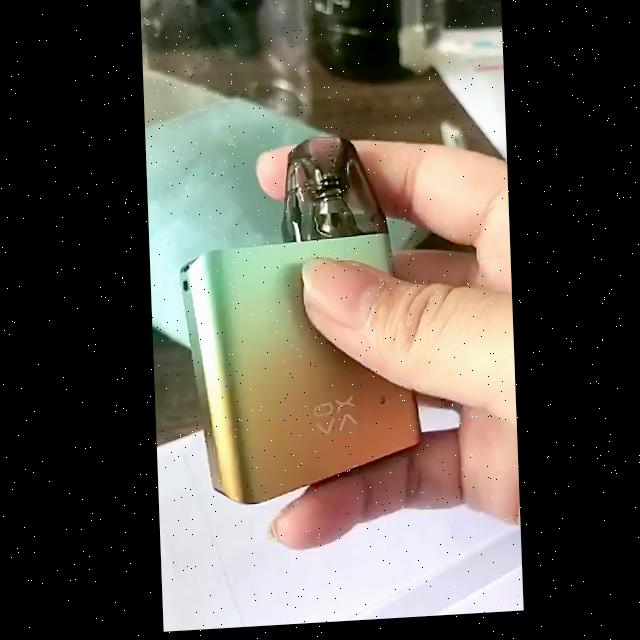vape: (175, 135, 421, 510)
